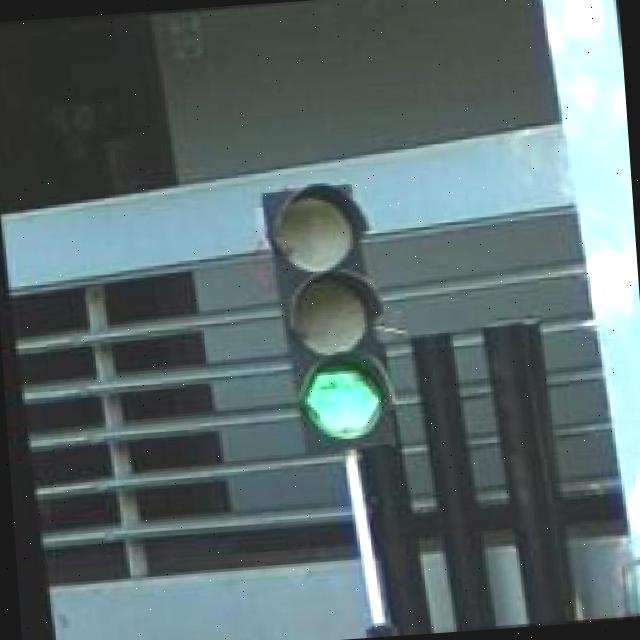green_light: (255, 176, 398, 455)
